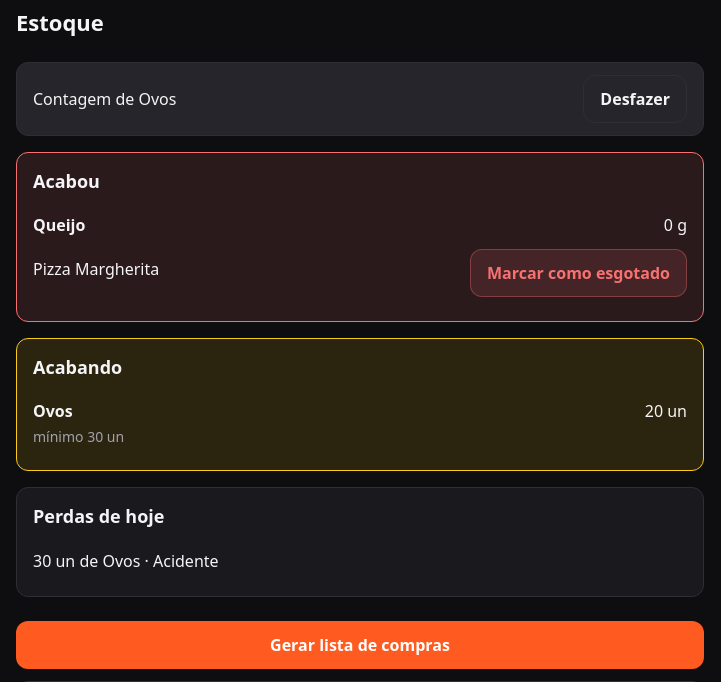
Test: Início do estoque › gerente desfaz o último lançamento dele pela barra Desfazer
Expected: the text "Contagem de Ovos" is shown, [33,88,176,110]
Click the button "Desfazer": (635, 99) [583,75,687,123]
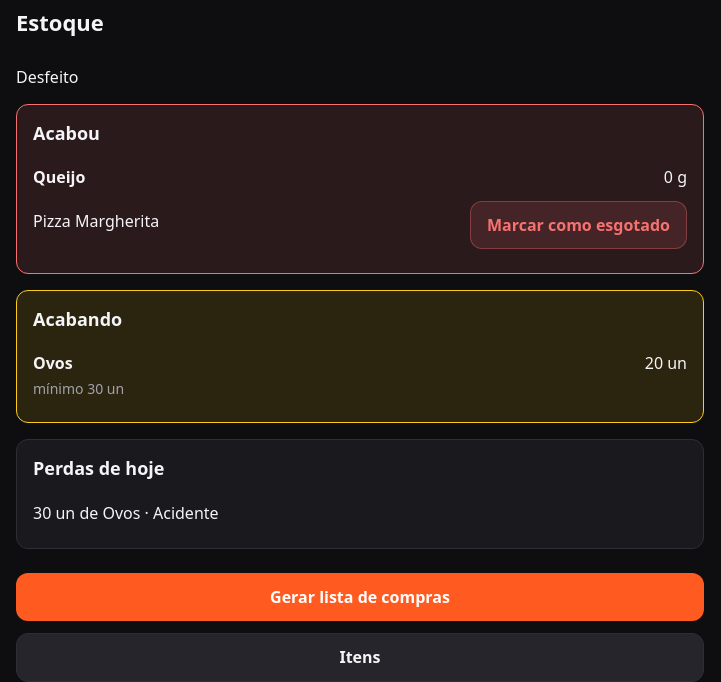
Result: the message reads "Desfeito" at [16,66,78,88]
Result: the button "Desfazer" is gone
